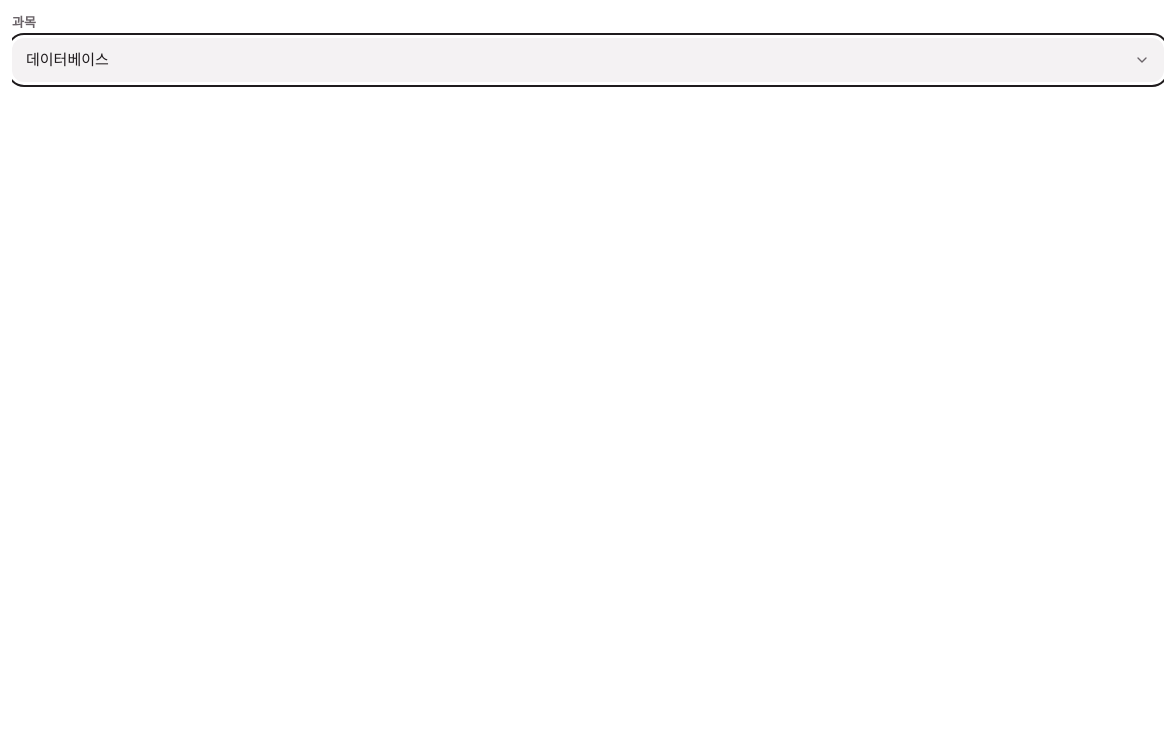
Test case: AppSelect › dismisses on the first outside pointer press after interacting with its content
Press ArrowDown in the dropdown named "과목", box [12, 38, 1164, 82]
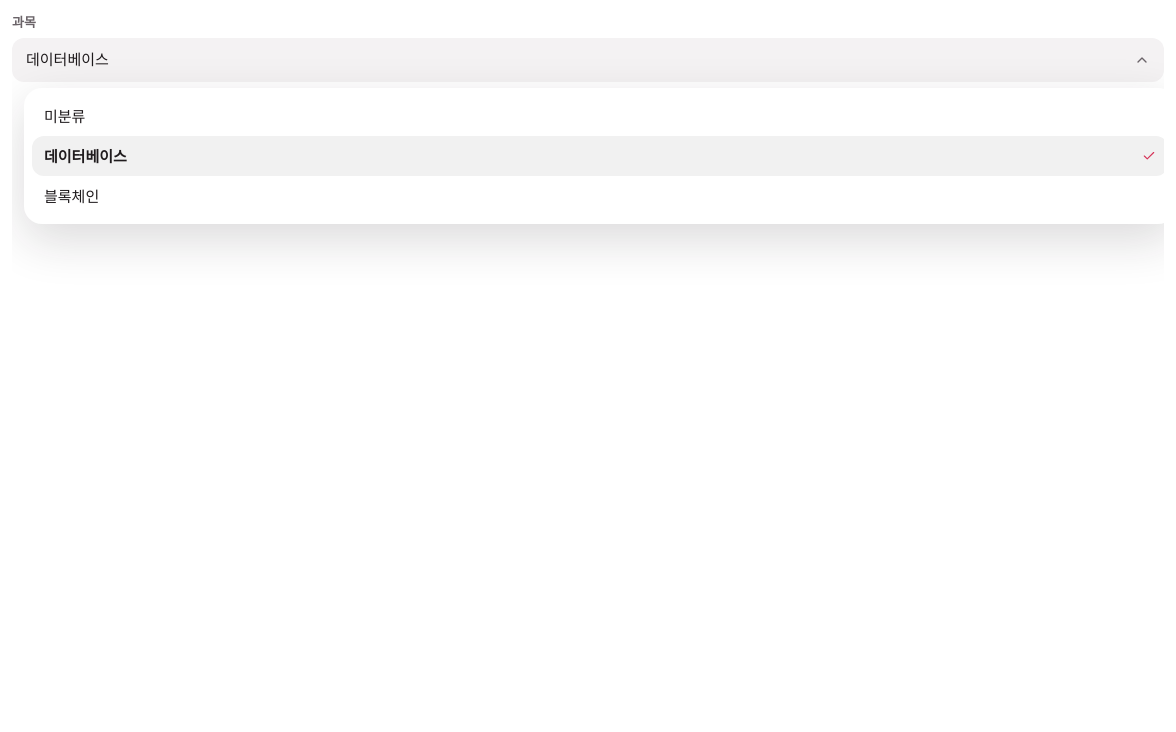
Press the mouse on the list at (594, 156), box [24, 88, 1164, 224]
Press the mouse on the element showing "과목 데이터베이스 미분류 데이터베이스 블록체인" at (588, 372), box [12, 12, 1164, 731]
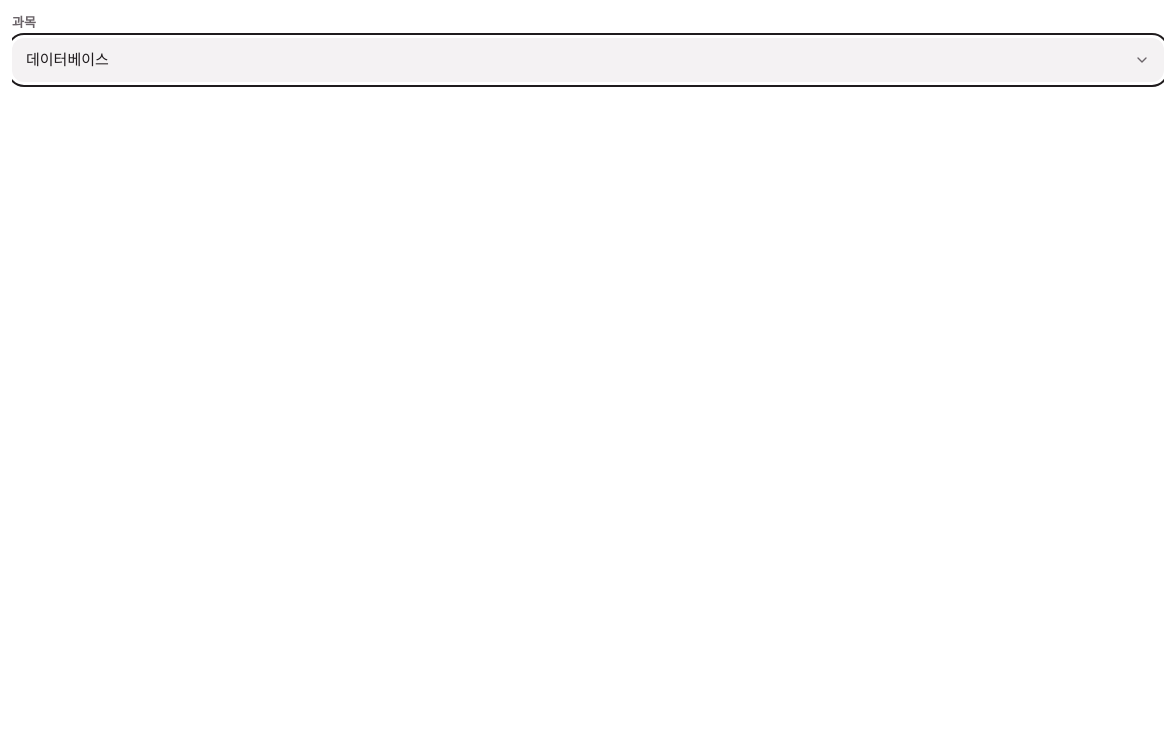
Expected: the list is gone
